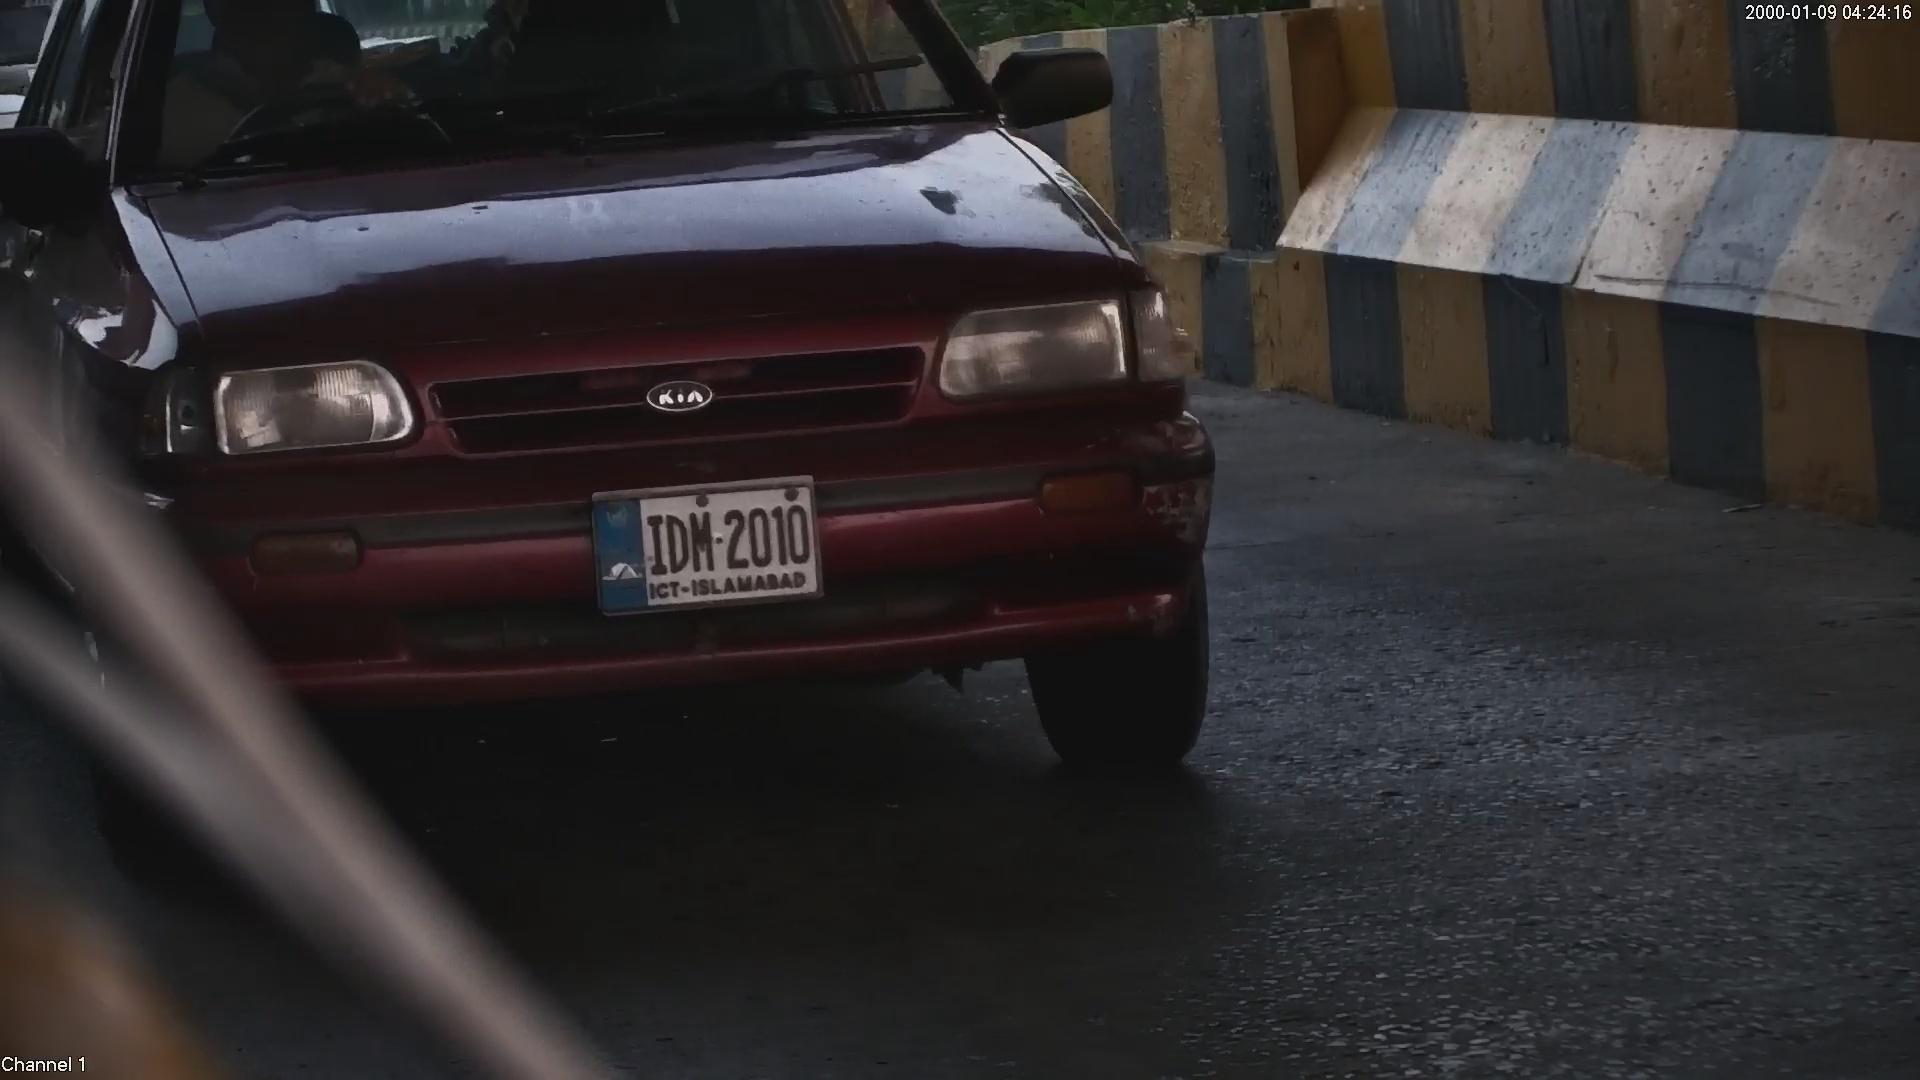Number_Plate: (571, 468, 841, 612)
Undefined: (156, 359, 419, 451), (947, 292, 1180, 392), (641, 368, 715, 416)
